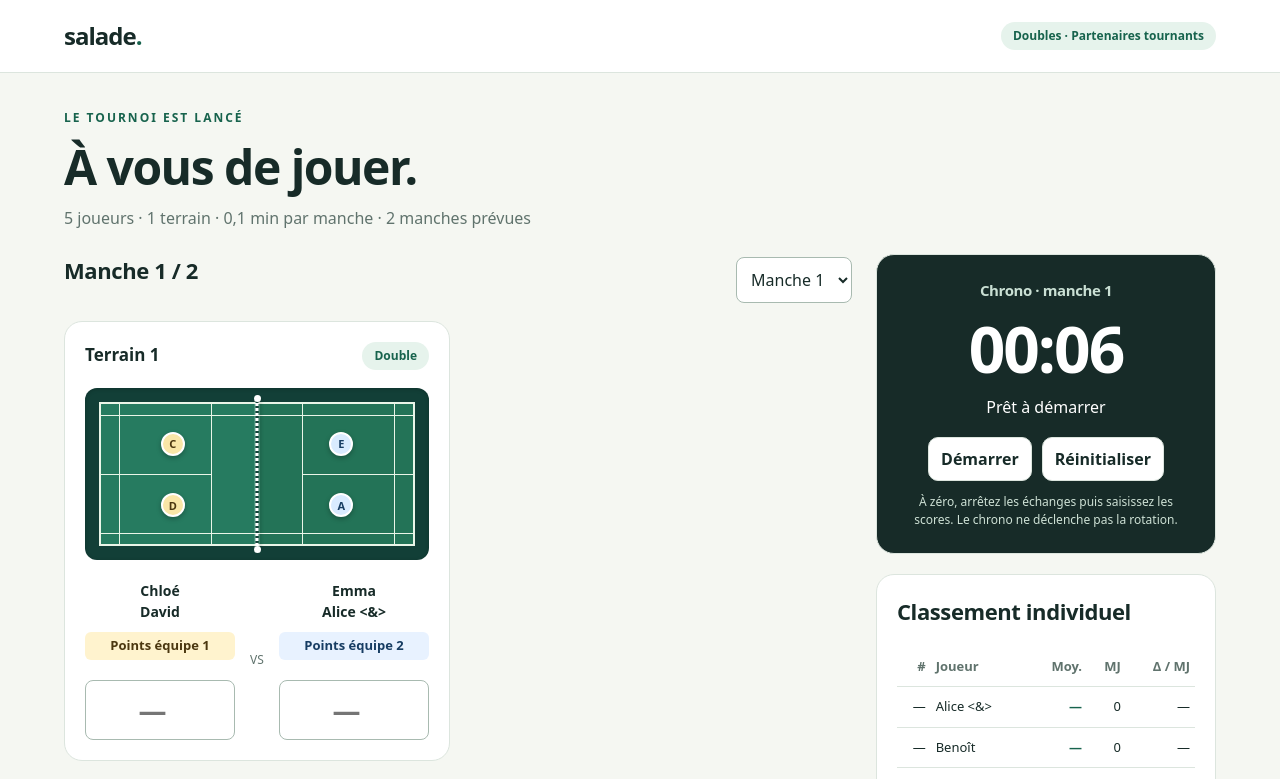
Scenario: application Vue › retire les rencontres si un score de la dernière manche est effacé
Type "5" into the number field labelled "Points équipe 1" at (160, 710), box [85, 680, 235, 740]
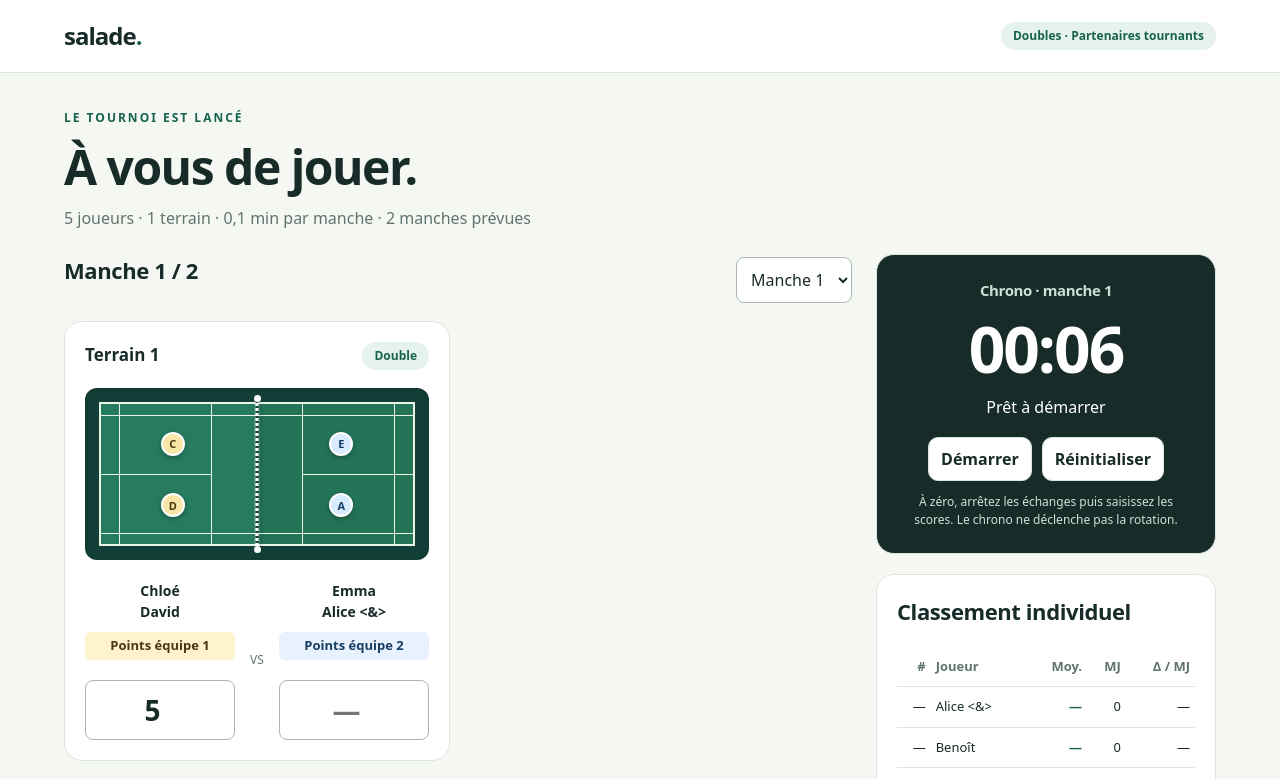
Type "25" into the number field labelled "Points équipe 2" at (354, 710), box [279, 680, 429, 740]
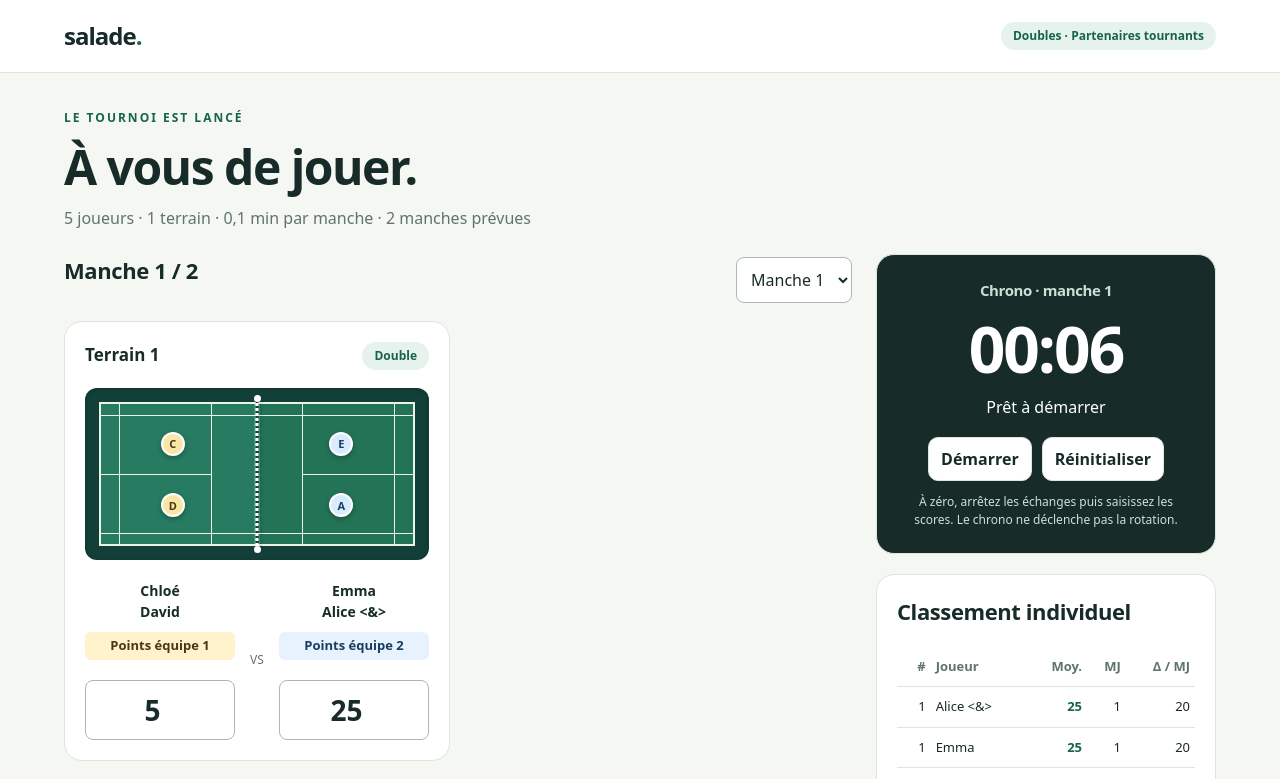
Clear the number field labelled "Points équipe 2" at (354, 710), box [279, 680, 429, 740]
(page scrolled)
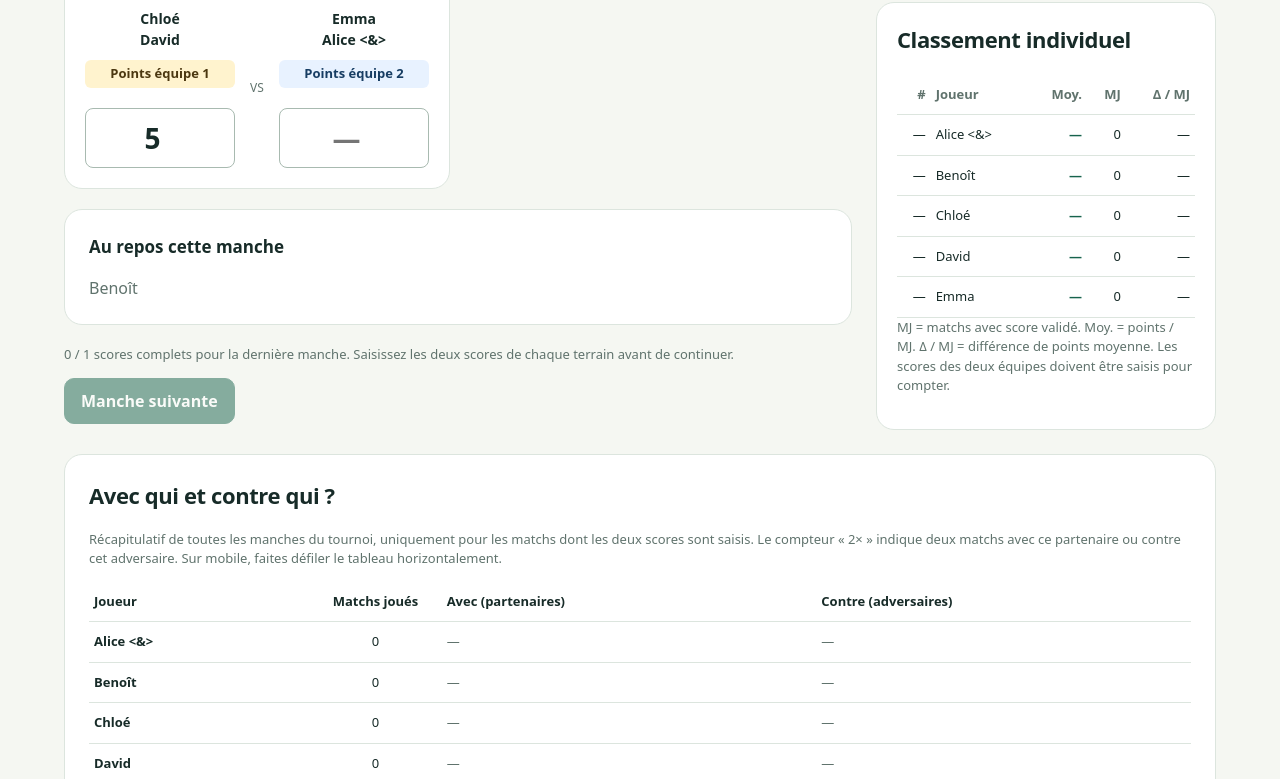
expect the button with id "next-round" is disabled: met, box [64, 378, 235, 424]
